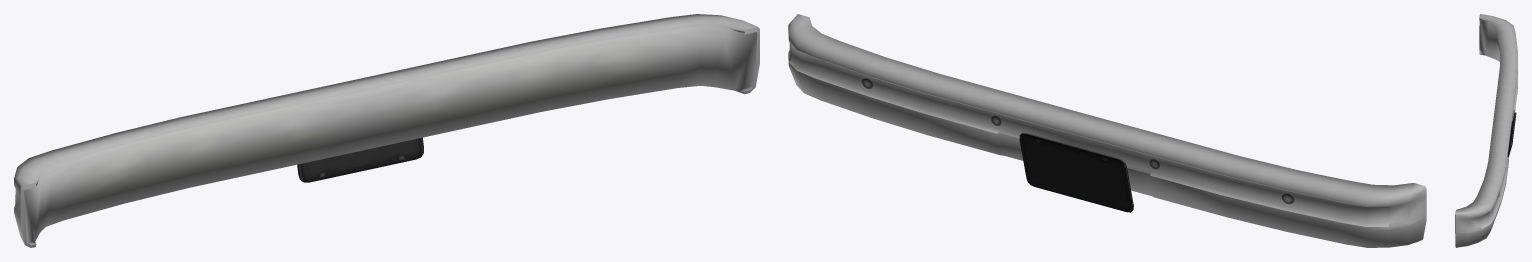
File: shvan92_bumper_front_ucb_bottom_0.003_lev3.glb
3 views of the same model, side by side, from view 1: azimuth 30°, elevation 25°; view 2: azimuth 150°, elevation 25°; view 3: azimuth 270°, elevation 25° (orthographic). The views are drawn at different scales.
Parts seen in each view (by area): view 1: shvan92_bumper_front_ucb_bottom_0.003_lev3; view 2: shvan92_bumper_front_ucb_bottom_0.003_lev3; view 3: shvan92_bumper_front_ucb_bottom_0.003_lev3.
Boxes of the visible parts, bbox=[...] form: shvan92_bumper_front_ucb_bottom_0.003_lev3: bbox=[14, 14, 759, 247]; shvan92_bumper_front_ucb_bottom_0.003_lev3: bbox=[788, 14, 1426, 247]; shvan92_bumper_front_ucb_bottom_0.003_lev3: bbox=[1455, 14, 1517, 247].
Size of the model in its own units: 1.86 by 0.2173 by 0.2459.
Materials: 1 (1 with a texture image).
